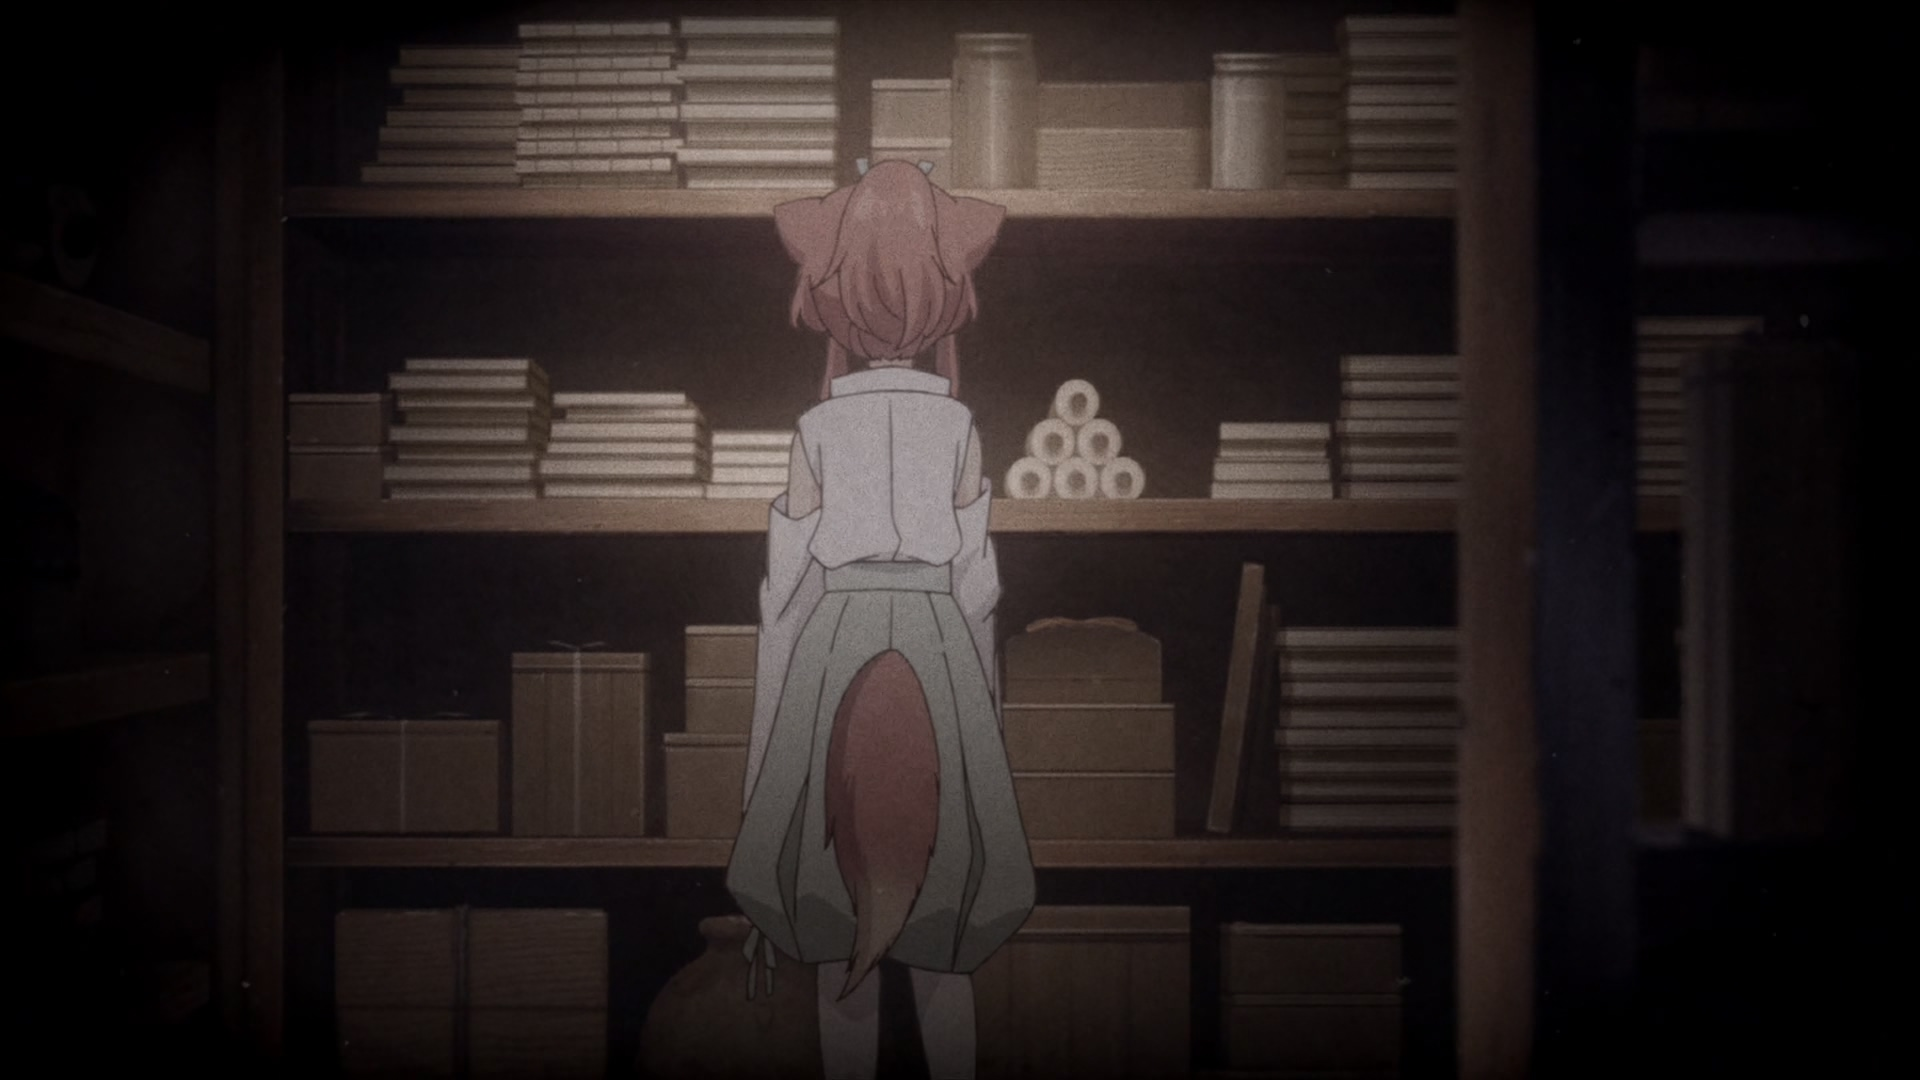椿: (727, 156, 1036, 1080)
